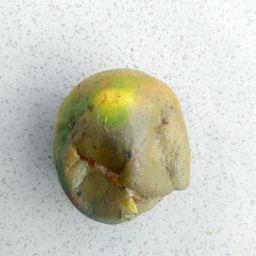orange: (52, 67, 192, 227)
